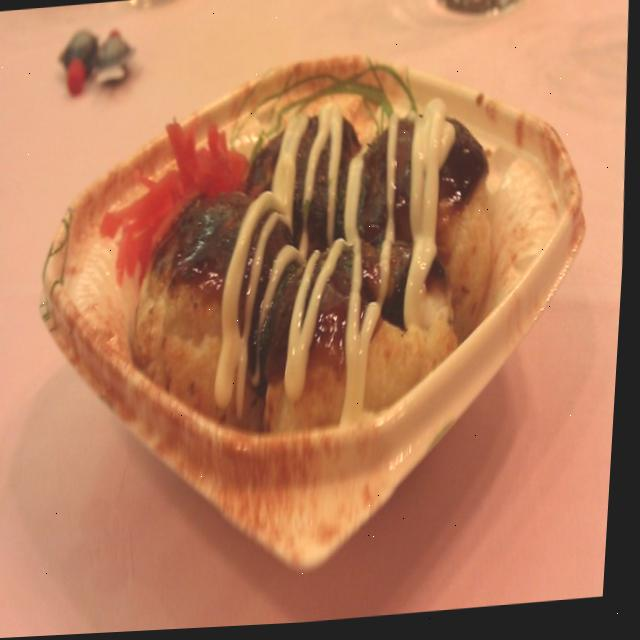炸货点心: (76, 7, 594, 507)
